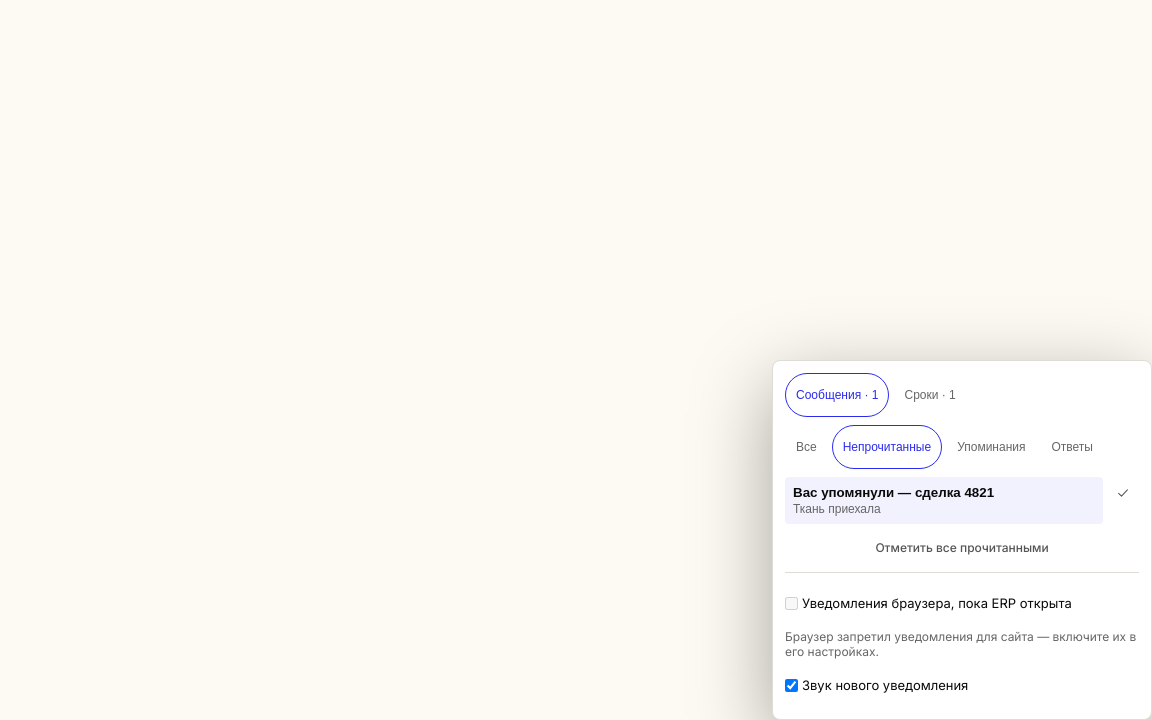
Test: центр уведомлений: два раздела › сроки не смешиваются с личными: в «Сообщениях» их нет
This screenshot has width=1152, height=720.
(page scrolled)
Expected: the text "Вас упомянули — сделка 4821" is shown, [793,485,994,500]
Expected: the text "Просрочен заказ" is not shown
Click the button "Сроки · 1" at (930,395), box [894,373,967,417]
(page scrolled)
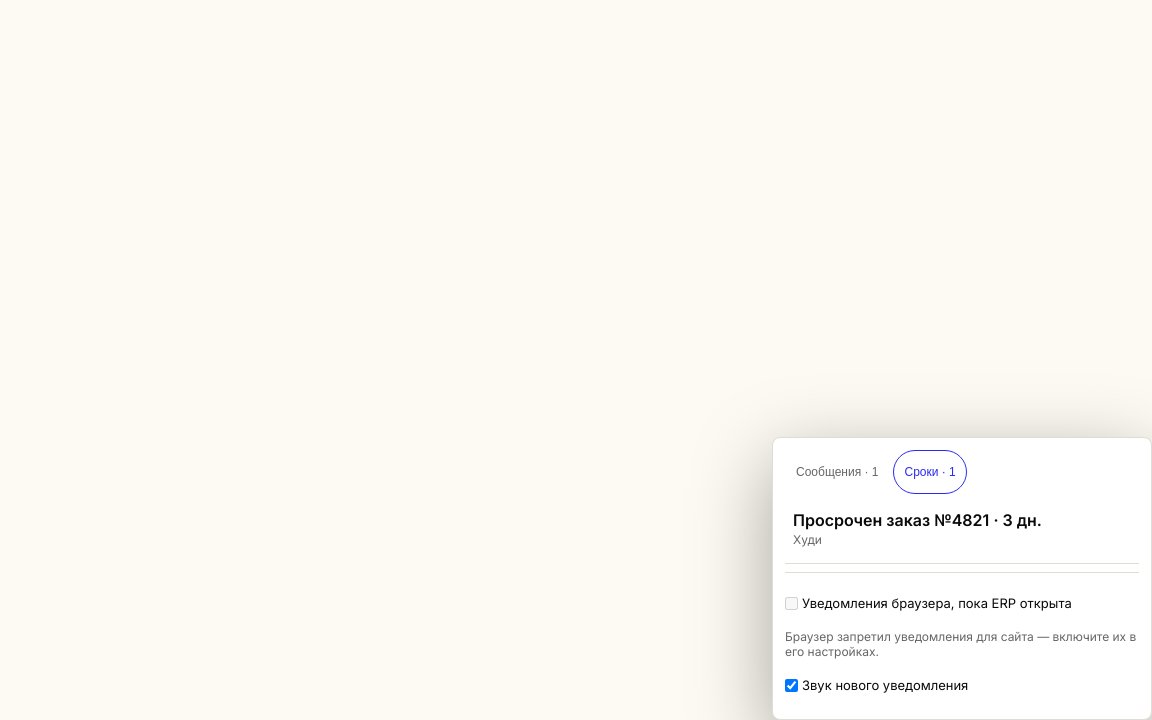
Expected: the text "Просрочен заказ №4821 · 3 дн." is shown, [793,510,1042,530]
Expected: the button "Вас упомянули — сделка 4821" is gone
